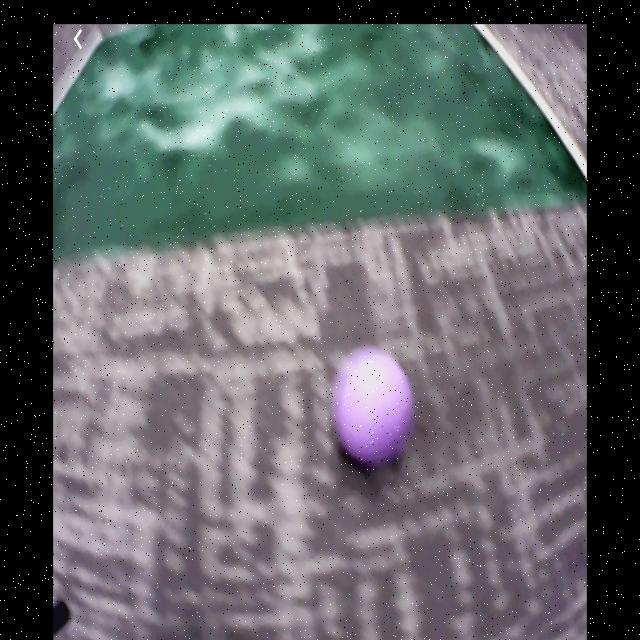ball: (336, 350, 414, 460)
